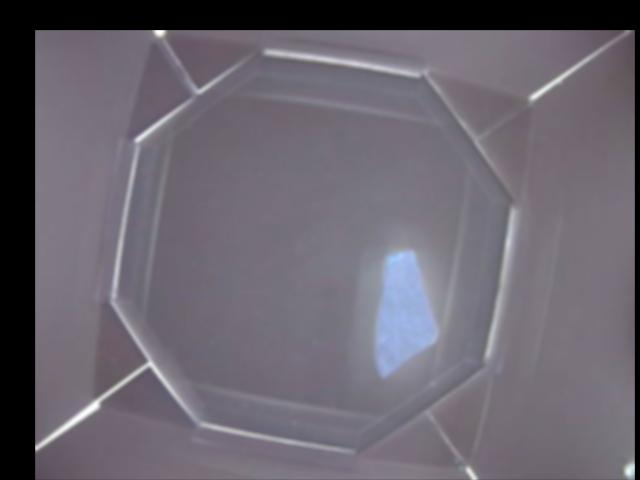China: (374, 250, 440, 375)
